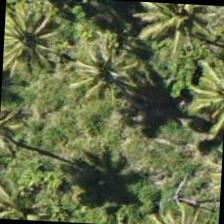Kelapa_Sawit: (52, 12, 147, 107), (1, 0, 76, 86), (162, 43, 223, 137), (119, 0, 210, 55), (0, 153, 63, 222)
